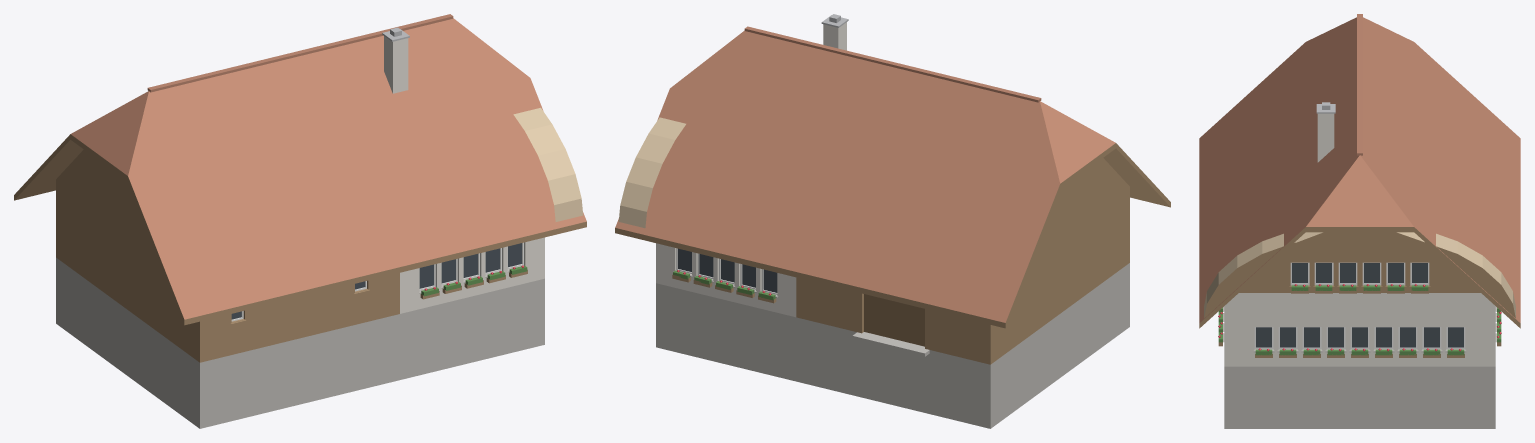
Rendered from farmhouse_m.glb.
3 views of the same model, side by side, from view 1: azimuth 30°, elevation 25°; view 2: azimuth 150°, elevation 25°; view 3: azimuth 270°, elevation 25° (orthographic). The views are drawn at different scales.
Visible parts, largest first — view 1: farmhouse_m; view 2: farmhouse_m; view 3: farmhouse_m.
Part boxes in pixels (bbox=[...]): farmhouse_m: bbox=[14, 14, 586, 428]; farmhouse_m: bbox=[615, 14, 1170, 428]; farmhouse_m: bbox=[1199, 14, 1520, 428].
Bounding box in the file's own units: 21 × 14.88 × 15.4.
